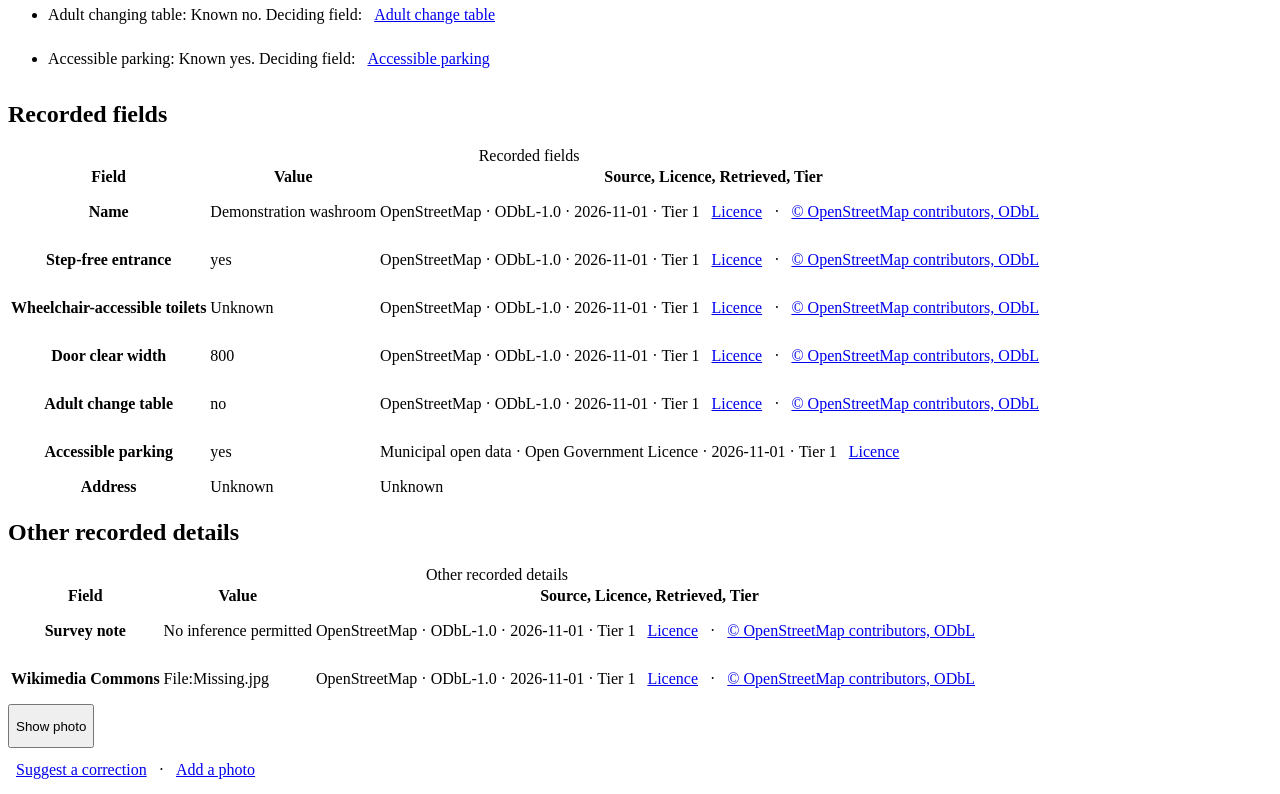
web pack place › avoids verified wording in the no-photo copy and sizes contribute links to 44px
(page scrolled)
Click the button "Show photo" at [51, 726], box [8,704,94,748]
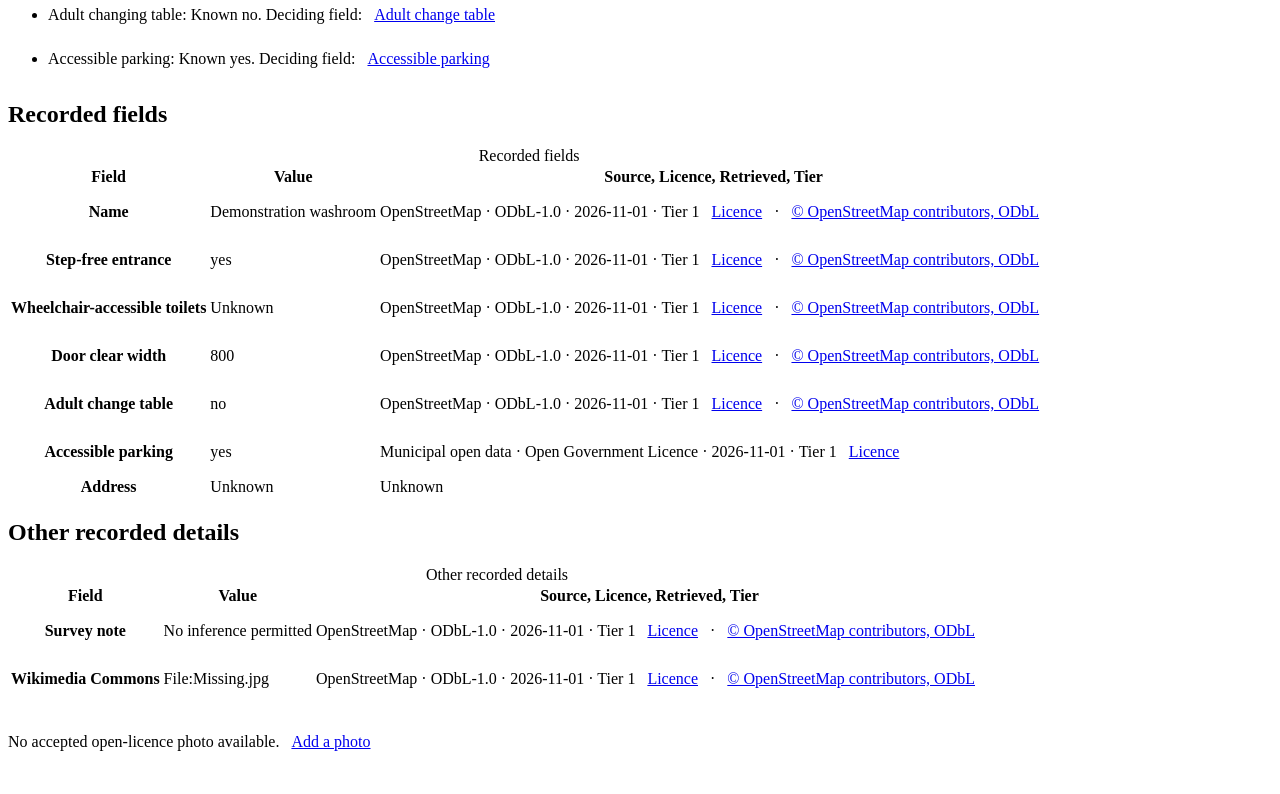
Expected: the link "Add a photo" next to "No accepted open-licence photo available" is shown, [291,733,370,750]
